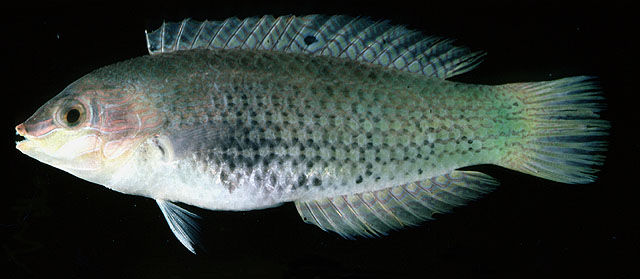fish: (14, 14, 610, 256)
